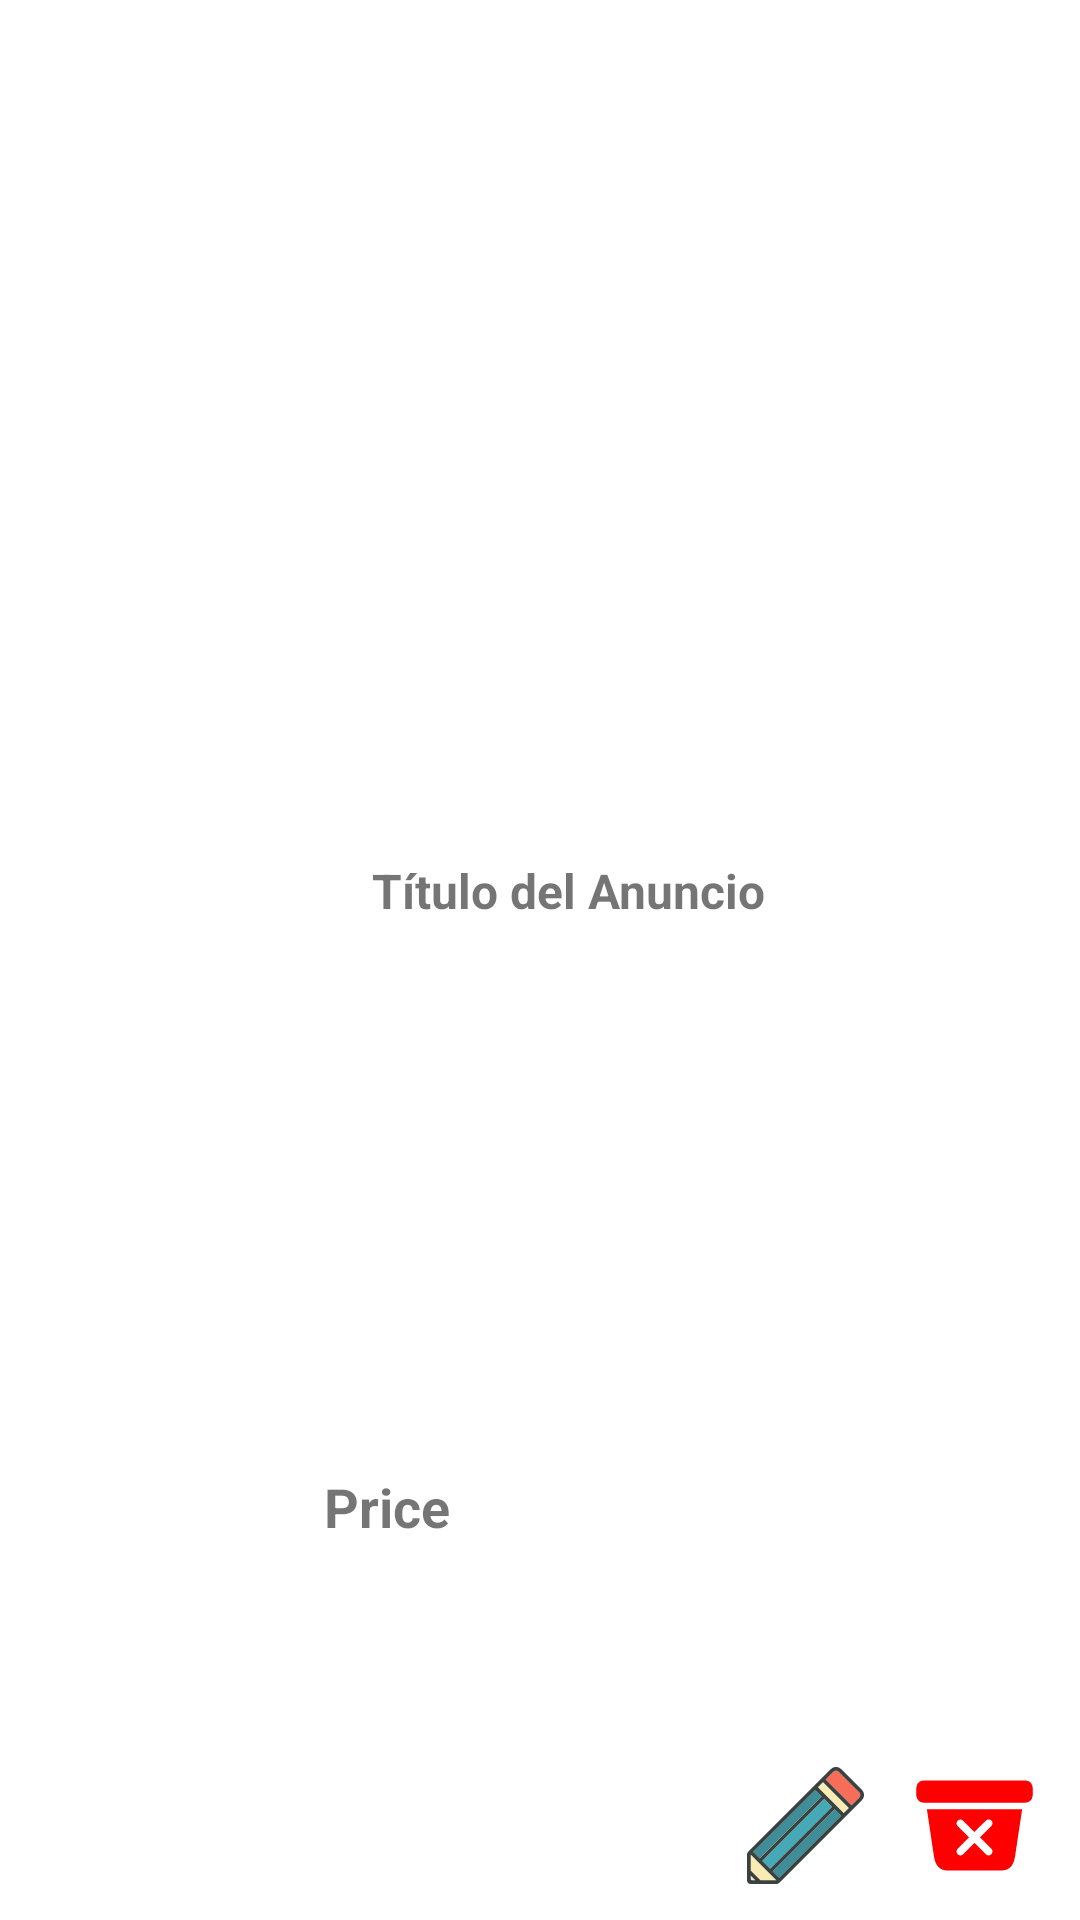

Named icons in this screenshot (1080 × 1920) and their bounding boxes, (x1, y1, x2, y2):
bin xmark: (916, 1780, 1033, 1871)
pencil: (747, 1767, 864, 1884)
